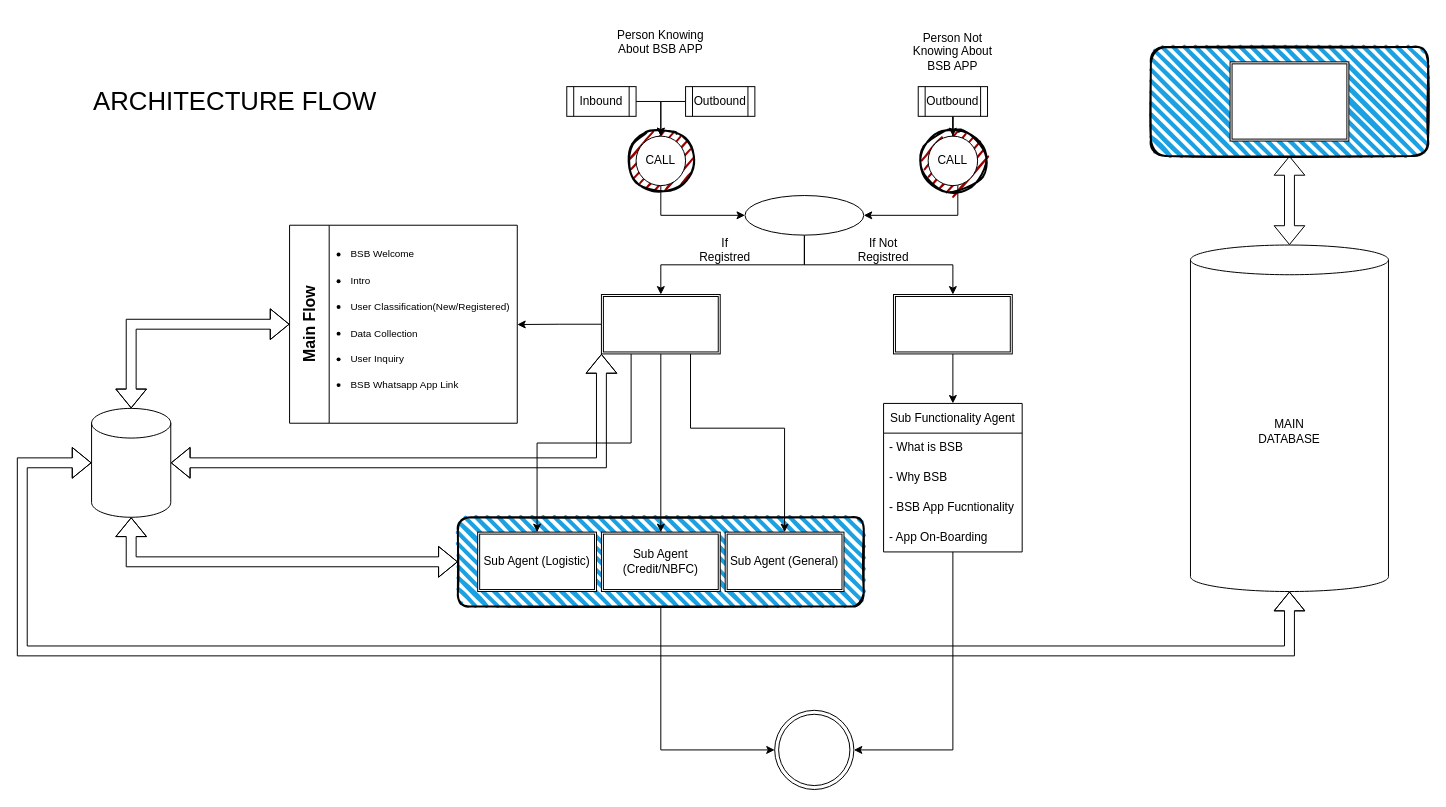
This 1446x807 diagram has some shape labels left out. The centre of each missing label's shape, as x and y in pixels:
"Call Duration DATABASE" goes at point 131,462.
"Check APP Registry" goes at point 804,215.
"END CALL" goes at point 814,749.
"General Info Agent AI" goes at point 952,324.
"Main Agent AI" goes at point 660,324.
"MAIN APP Sync" goes at point 1289,101.
